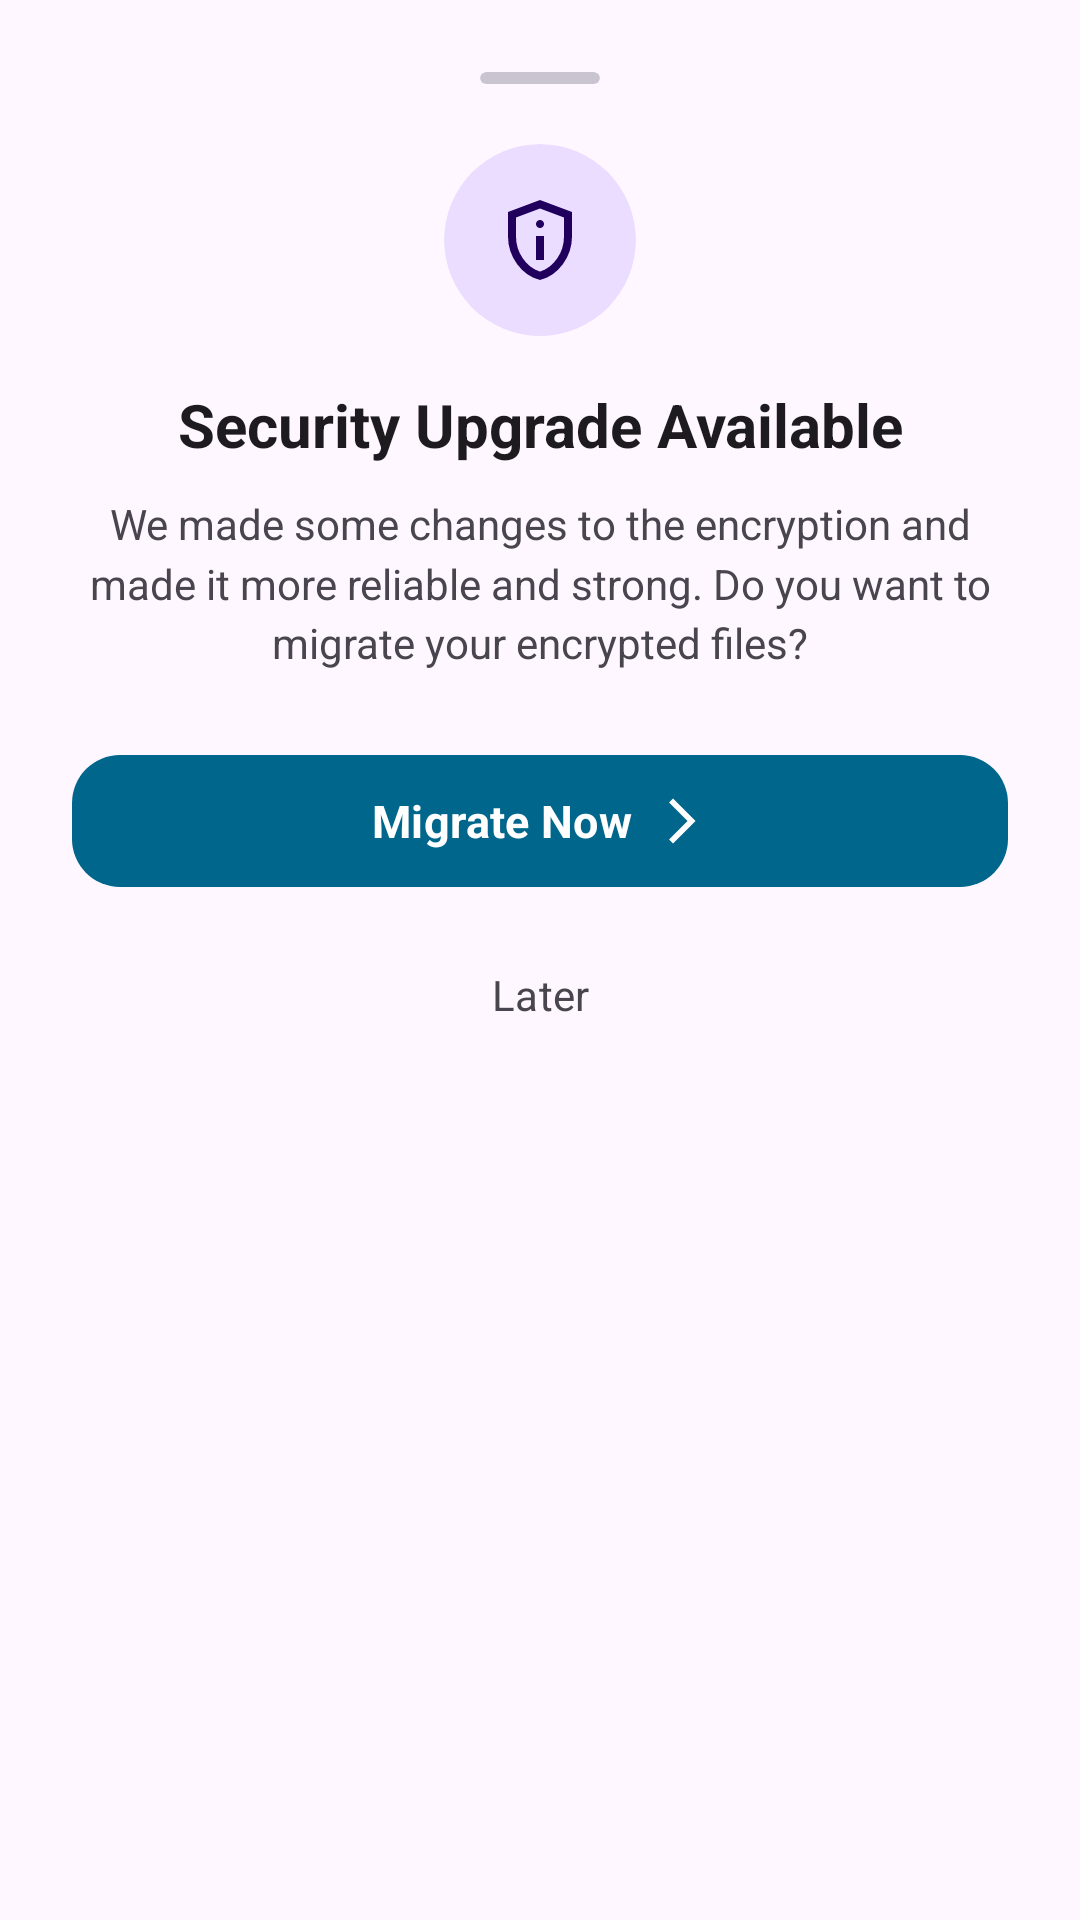

Icon bounding boxes for this 1080 x 1920 phone screenshot, format [x1, y1, x2, y2]:
privacy tip: [508, 200, 572, 280]
